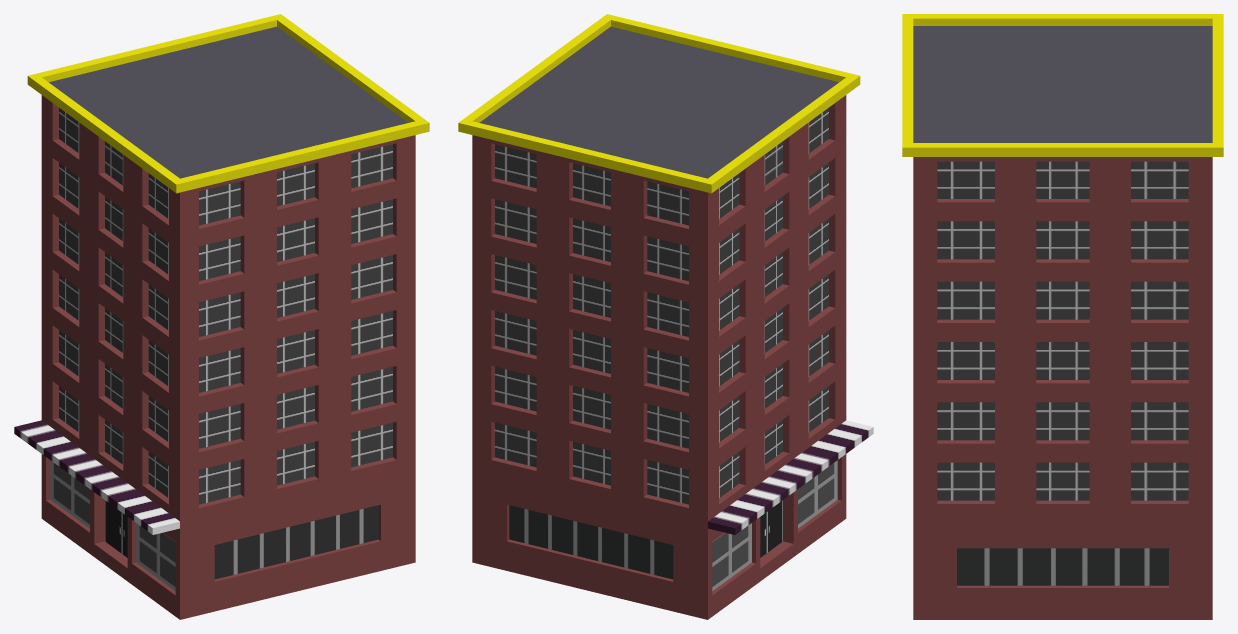
File: building19a.FBX
3 views of the same model, side by side, from view 1: azimuth 30°, elevation 25°; view 2: azimuth 150°, elevation 25°; view 3: azimuth 270°, elevation 25° (orthographic). The views are drawn at different scales.
Visible parts, largest first — view 1: building19a; view 2: building19a; view 3: building19a.
Boxes of the visible parts, left/top/right/bottom form: building19a: left=14, top=14, right=429, bottom=619; building19a: left=458, top=14, right=873, bottom=619; building19a: left=902, top=14, right=1223, bottom=619.
Bounding box in the file's own units: 23 × 35.71 × 21.81.
